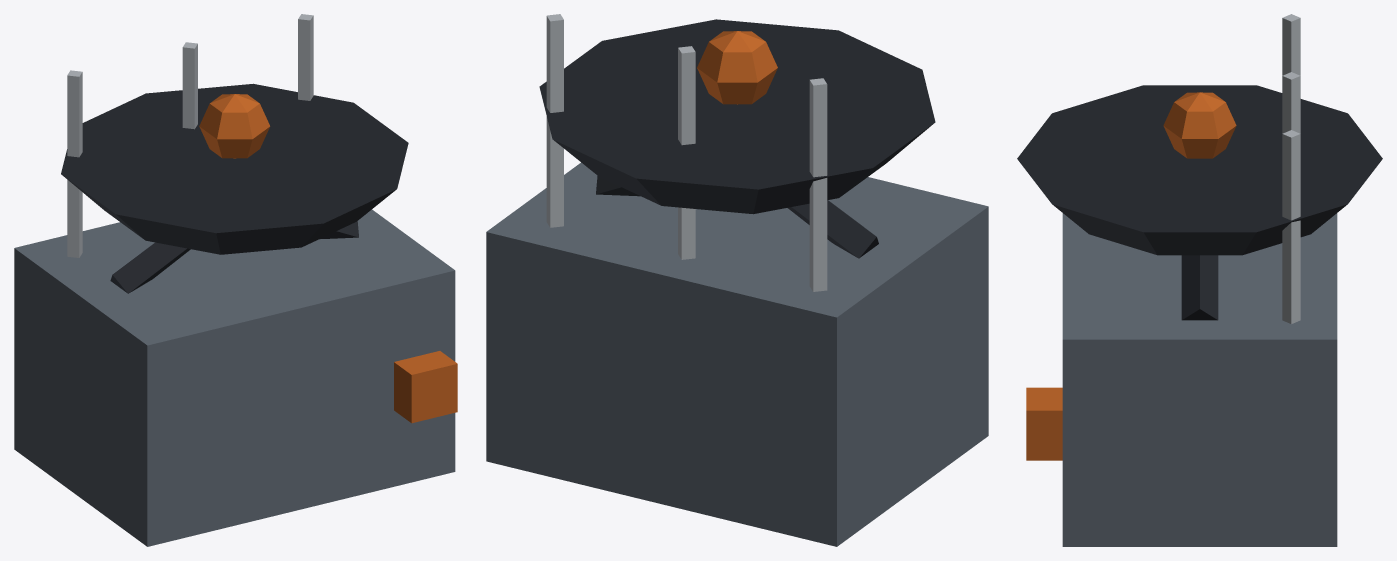
The model's file is comm-jammer.glb.
3 renders of one model, left to right at view 1: azimuth 30°, elevation 25°; view 2: azimuth 150°, elevation 25°; view 3: azimuth 270°, elevation 25°, orthographic. The views are drawn at different scales.
Visible parts, largest first — view 1: m; view 2: m; view 3: m.
Part boxes in pixels (x1,y1,x2,y2): m: (14,14,457,546); m: (486,14,988,546); m: (1017,14,1382,546).
Bounding box in the file's own units: 0.1011 × 0.12 × 0.1011.
